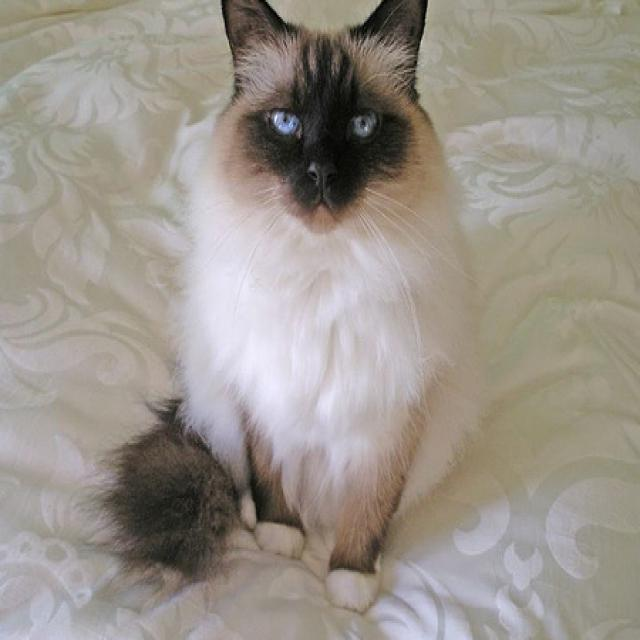Birman: (84, 0, 483, 623)
